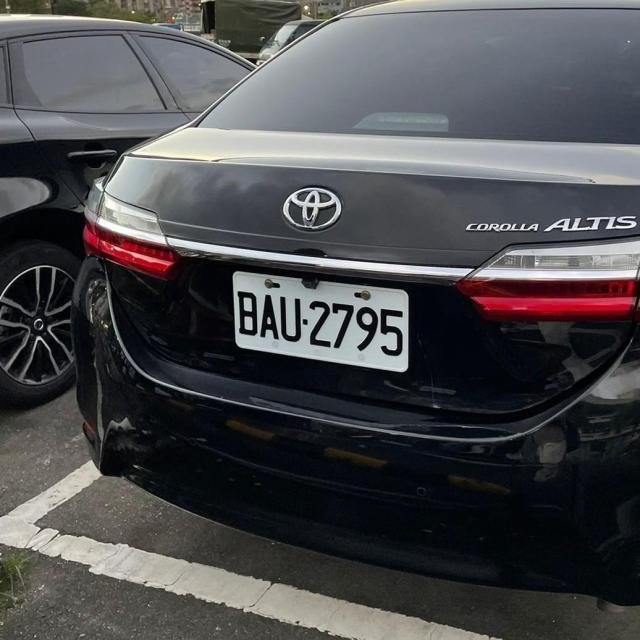W: (219, 255, 423, 383)
